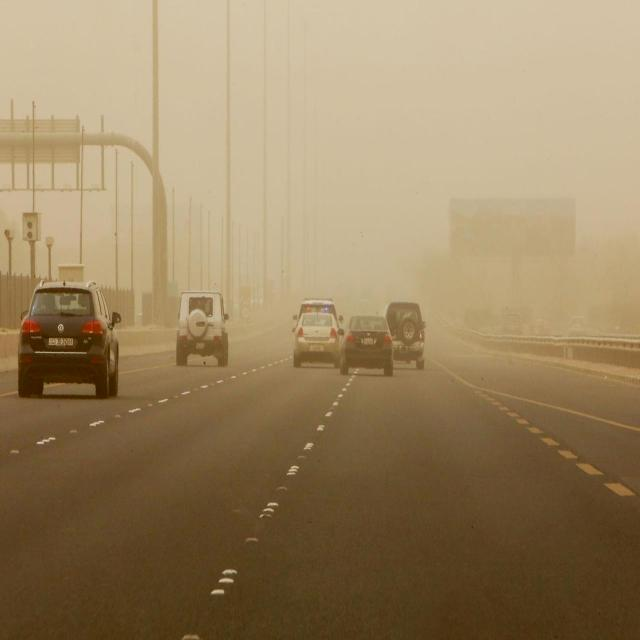Car: (17, 280, 121, 398), (174, 291, 230, 365), (337, 314, 396, 374), (379, 300, 428, 369), (290, 312, 344, 369)
